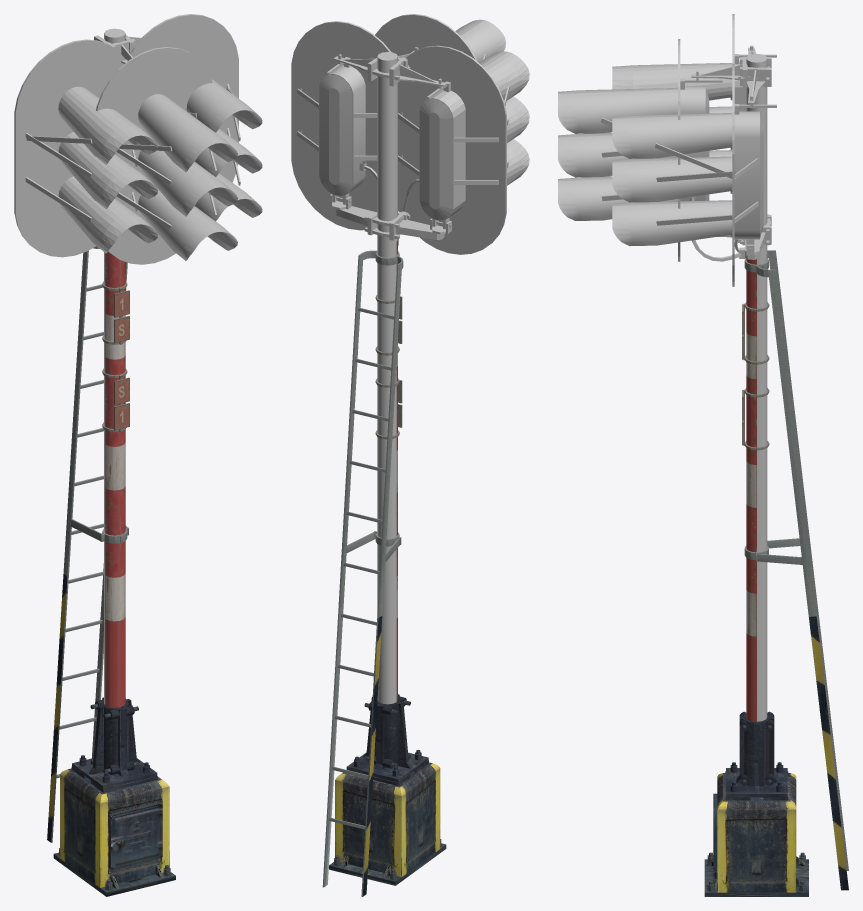
Rendered from sssr_3svet_nove.obj.
3 views of the same model, side by side, from view 1: azimuth 30°, elevation 25°; view 2: azimuth 150°, elevation 25°; view 3: azimuth 270°, elevation 25° (orthographic). The views are drawn at different scales.
Parts seen in each view (by area): view 1: stit_3l, stoz_3_zaklad, stit_3, stit_3r, stoz_3odj_nater, stoz_3_stozar, stoz_3vj_cisla, stoz_3odj_cisla; view 2: stit_3l, stoz_3_zaklad, stit_3r, stoz_3_stozar, stit_3, stoz_3odj_nater; view 3: stoz_3_zaklad, stit_3r, stit_3, stoz_3_stozar, stoz_3odj_nater, stit_3l.
Part boxes in pixels (<box>): stit_3l: <box>14,35,157,257</box>; stoz_3_zaklad: <box>47,246,175,896</box>; stit_3: <box>94,38,237,264</box>; stit_3r: <box>125,14,262,221</box>; stoz_3odj_nater: <box>105,251,125,707</box>; stoz_3_stozar: <box>104,28,125,704</box>; stoz_3vj_cisla: <box>102,281,129,344</box>; stoz_3odj_cisla: <box>102,368,129,431</box>; stit_3l: <box>374,45,529,254</box>; stoz_3_zaklad: <box>322,250,446,896</box>; stit_3r: <box>291,21,405,235</box>; stoz_3_stozar: <box>377,52,397,704</box>; stit_3: <box>374,14,505,245</box>; stoz_3odj_nater: <box>396,240,397,701</box>; stoz_3_zaklad: <box>704,250,848,896</box>; stit_3r: <box>612,64,776,286</box>; stit_3: <box>558,39,770,261</box>; stoz_3_stozar: <box>746,53,767,721</box>; stoz_3odj_nater: <box>746,259,756,721</box>; stit_3l: <box>612,14,776,258</box>.
Bounding box in the file's own units: 0.9719 × 3.53 × 1.12.
